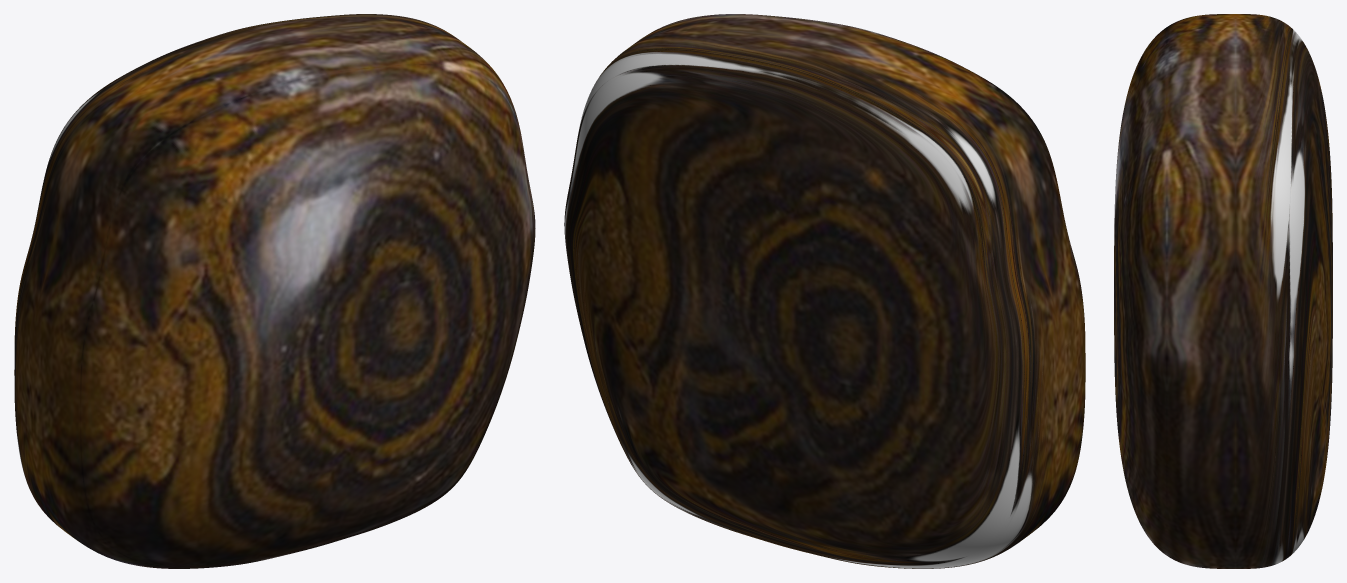
File: agate_a_3d-model.glb
The picture shows the model from 3 angles, left to right: view 1: azimuth 30°, elevation 25°; view 2: azimuth 150°, elevation 25°; view 3: azimuth 270°, elevation 25°; orthographic projection. The views are drawn at different scales.
Visible parts, largest first — view 1: agate_a; view 2: agate_a; view 3: agate_a.
Part boxes in pixels (x1,y1,x2,y2): agate_a: [14, 14, 535, 568]; agate_a: [564, 14, 1085, 568]; agate_a: [1114, 14, 1332, 568].
Size of the model in its own units: 0.028 by 0.0278 by 0.0118.
Materials: 1 (1 with a texture image).
